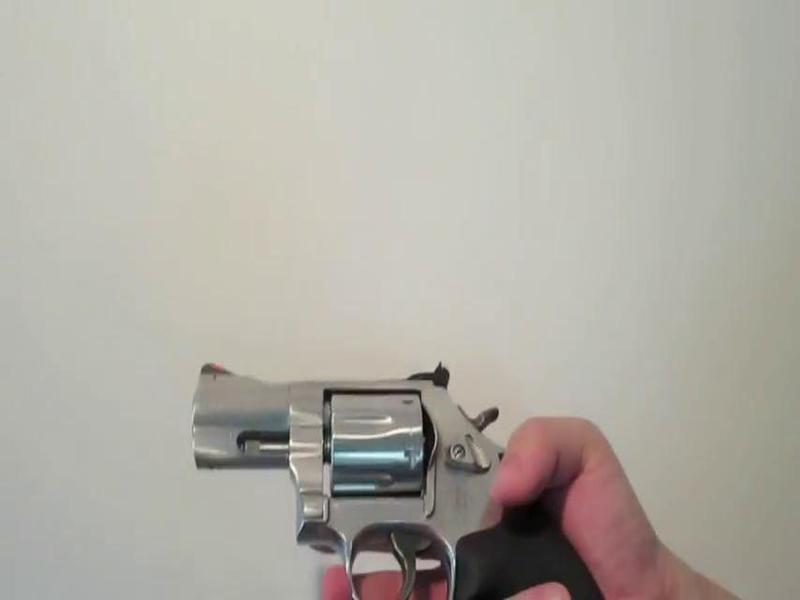Revolver: (127, 327, 574, 580)
